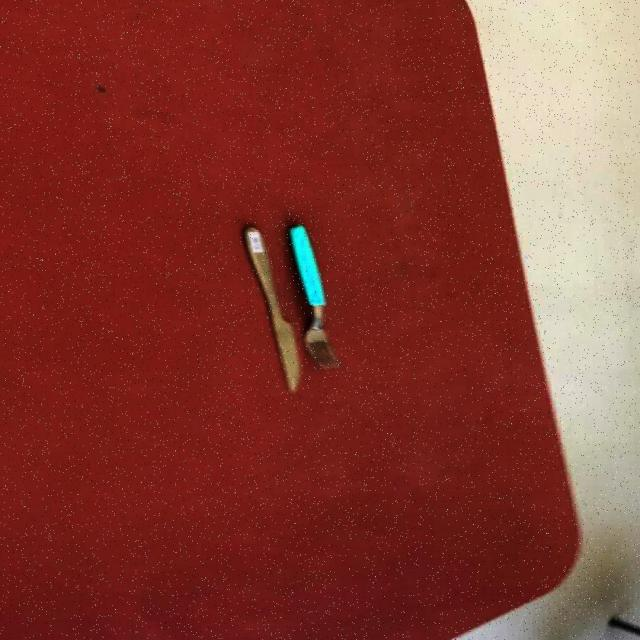Fork: (240, 224, 300, 393), (284, 221, 339, 369)
Knife: (240, 224, 300, 393), (284, 221, 339, 369)
